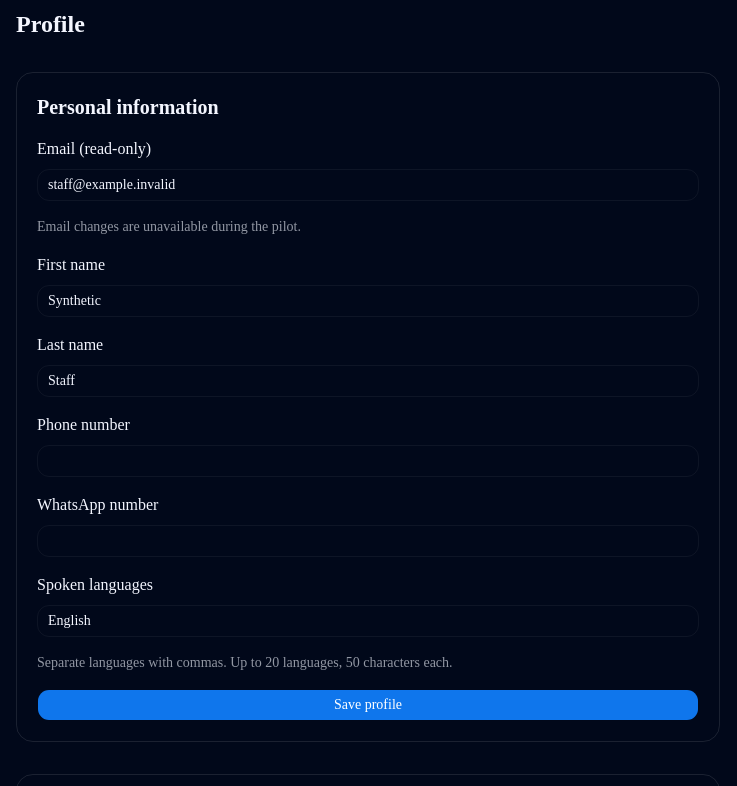
Test: saves profile and updates same-session name
Replace the text in the field labelled "First name" with "Updated". click: (368, 301)
box: [37, 285, 699, 317]
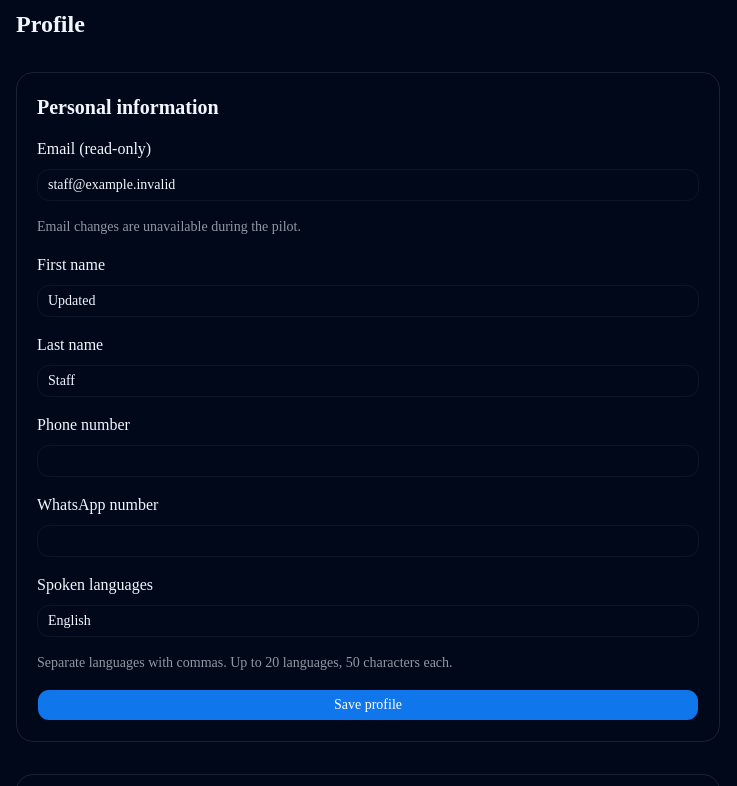
Click the button "Save profile". click: (368, 705)
box: [37, 689, 699, 721]
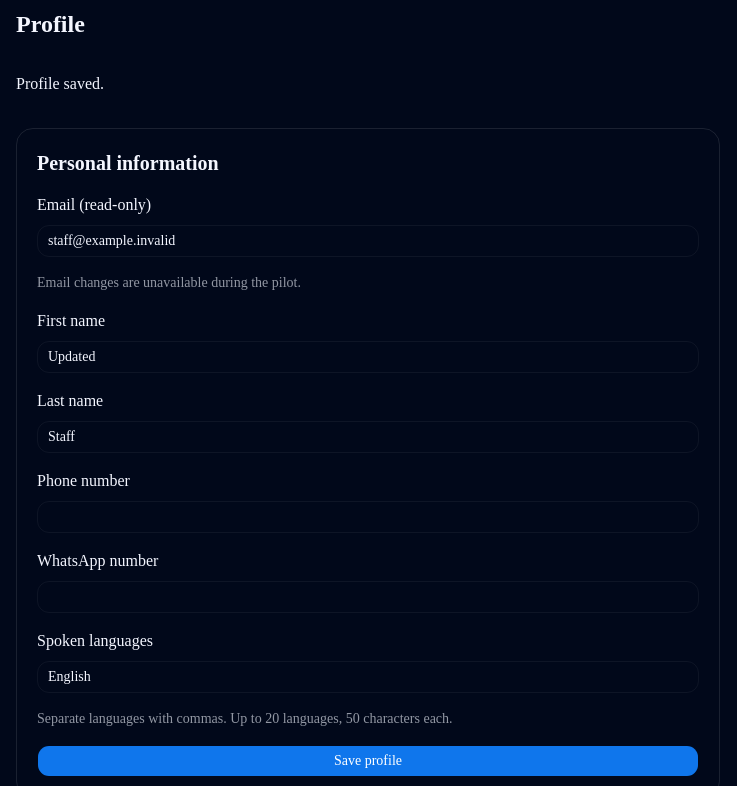
Now the message shows "Profile saved", box [16, 75, 104, 92]
